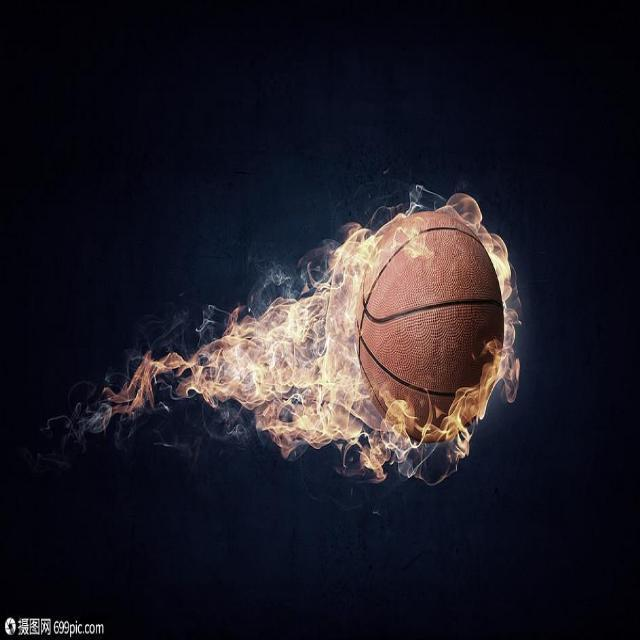rim: (354, 212, 504, 441)
